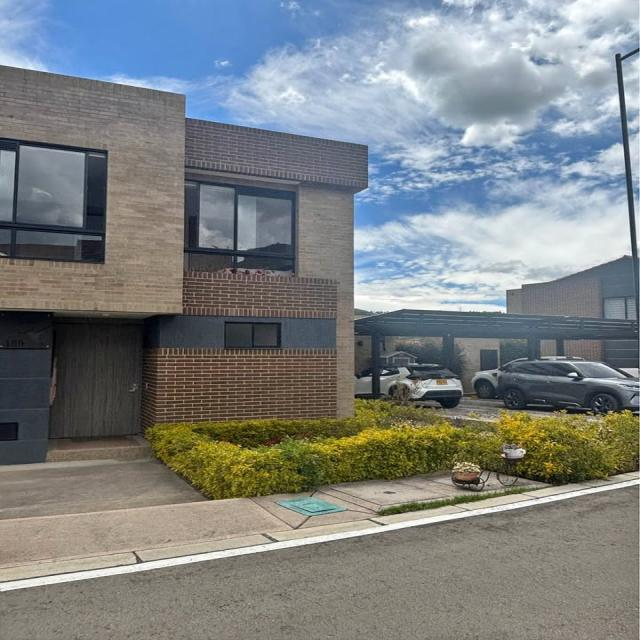Casa: (0, 67, 366, 463), (507, 256, 635, 319), (567, 339, 637, 368)
